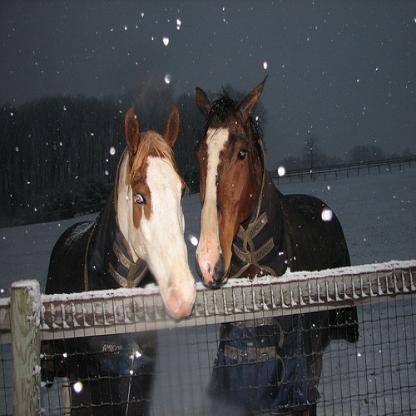horse: (196, 78, 360, 415), (46, 104, 196, 415)
